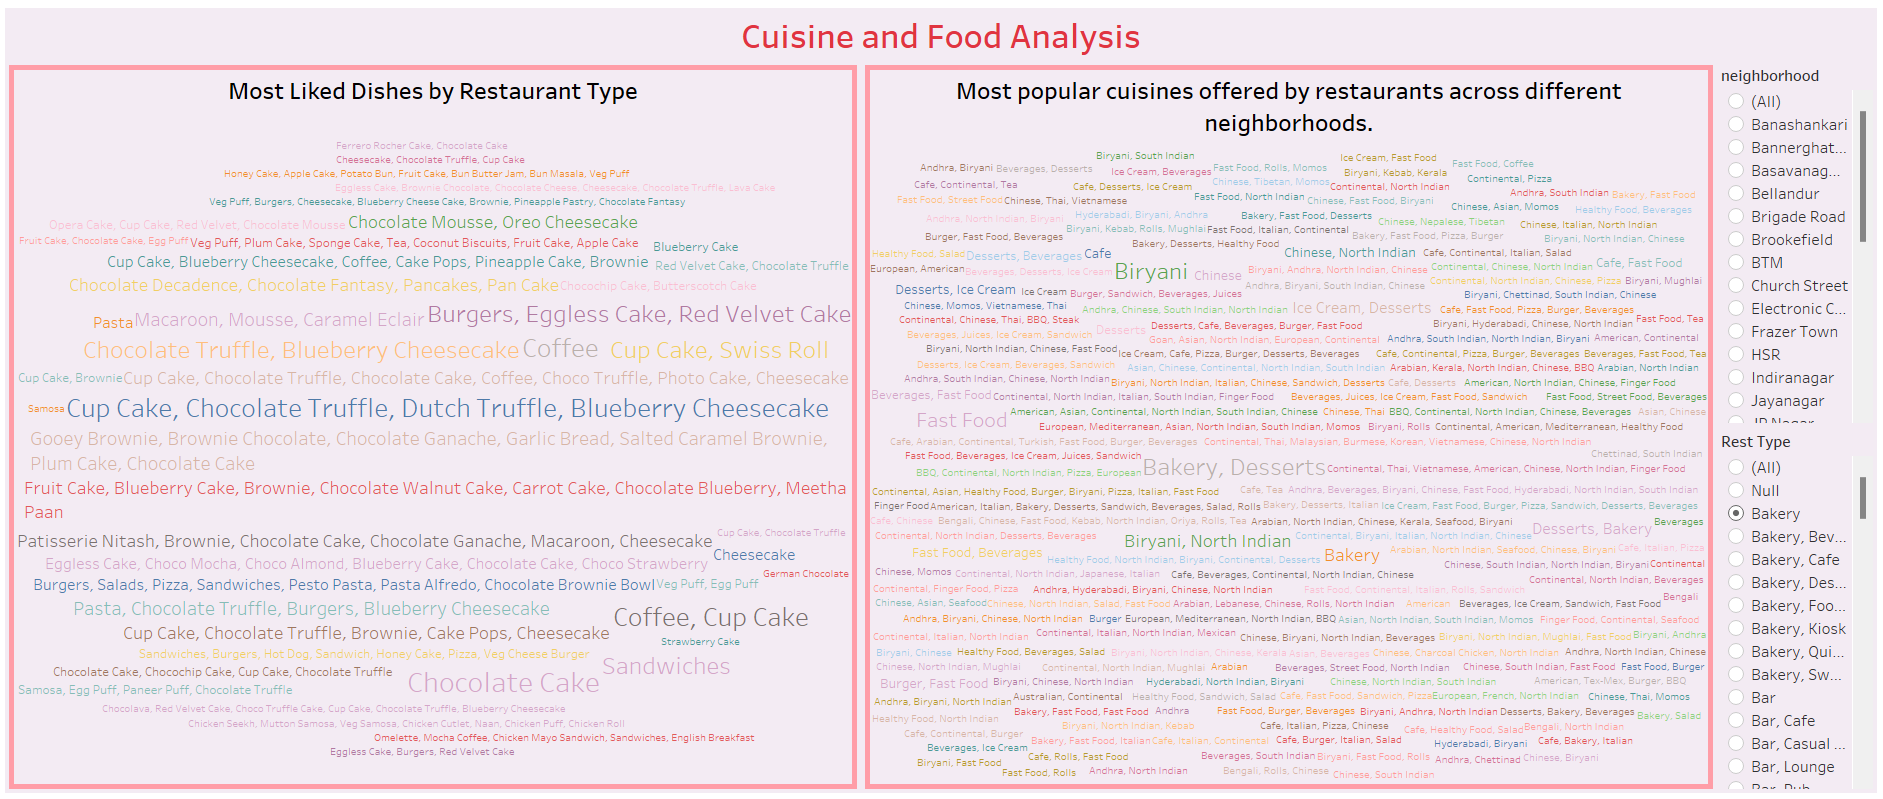

The page's visual inventory and layout, read from the dashboard file:
{"tool":"tableau","page":{"name":"Cuisine & Food Analysis","canvas":[1000,1000],"units":"permille","ordinal":2},"visuals":[{"type":"title","box":[4.2,10,991.5,66.2]},{"type":"worksheet","title":"Sheet 12","mark":"Text","box":[4.2,76.2,453.4,913.9]},{"type":"worksheet","title":"Sheet 6","mark":"Text","box":[457.6,76.2,453.4,913.9]},{"type":"filter","title":"Sheet 6","param":"[federated.1rjx80k109967o16bbaiv08kjs3t].[none:listed_in(city):nk]","box":[911,76.2,84.8,456.9]},{"type":"filter","title":"Sheet 12","param":"[federated.1rjx80k109967o16bbaiv08kjs3t].[none:rest_type:nk]","box":[911,533.1,84.8,456.9]}]}

Visuals, with their boxes on the dashboard's canvas, which has no fixed pixel size, in thousandths of its width and height (x1, y1, x2, y2). These are canvas units, not pixel positions in the 1883x799 screenshot, which may show the page scaled, cropped or inside an application window:
title: BBox(4, 10, 996, 76)
"Sheet 12" worksheet (Text marks): BBox(4, 76, 458, 990)
"Sheet 6" worksheet (Text marks): BBox(458, 76, 911, 990)
"Sheet 6" filter: BBox(911, 76, 996, 533)
"Sheet 12" filter: BBox(911, 533, 996, 990)
